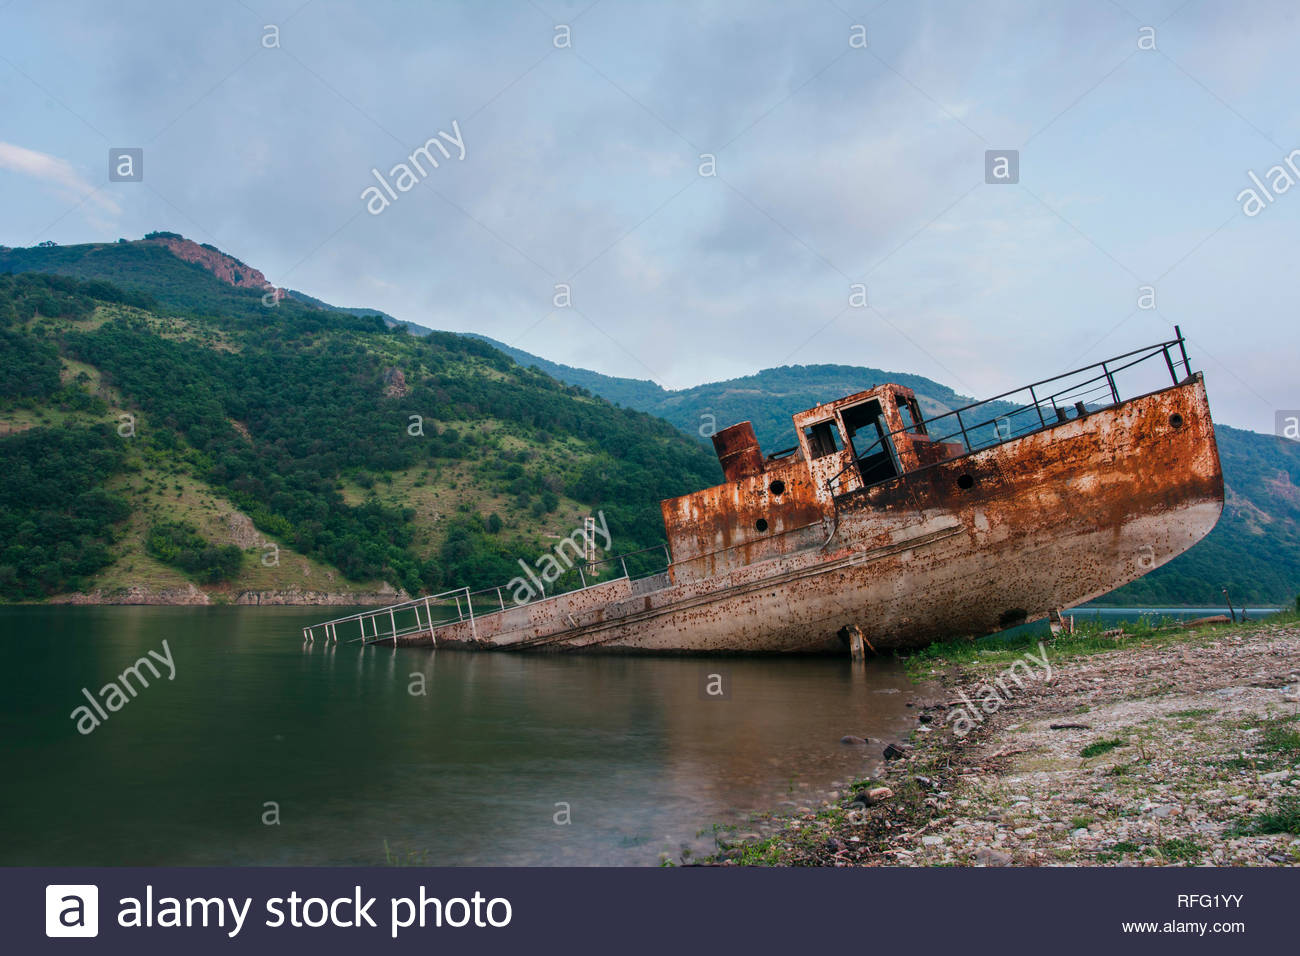rust: (913, 450, 1218, 508), (715, 428, 810, 529), (1137, 394, 1211, 438)
